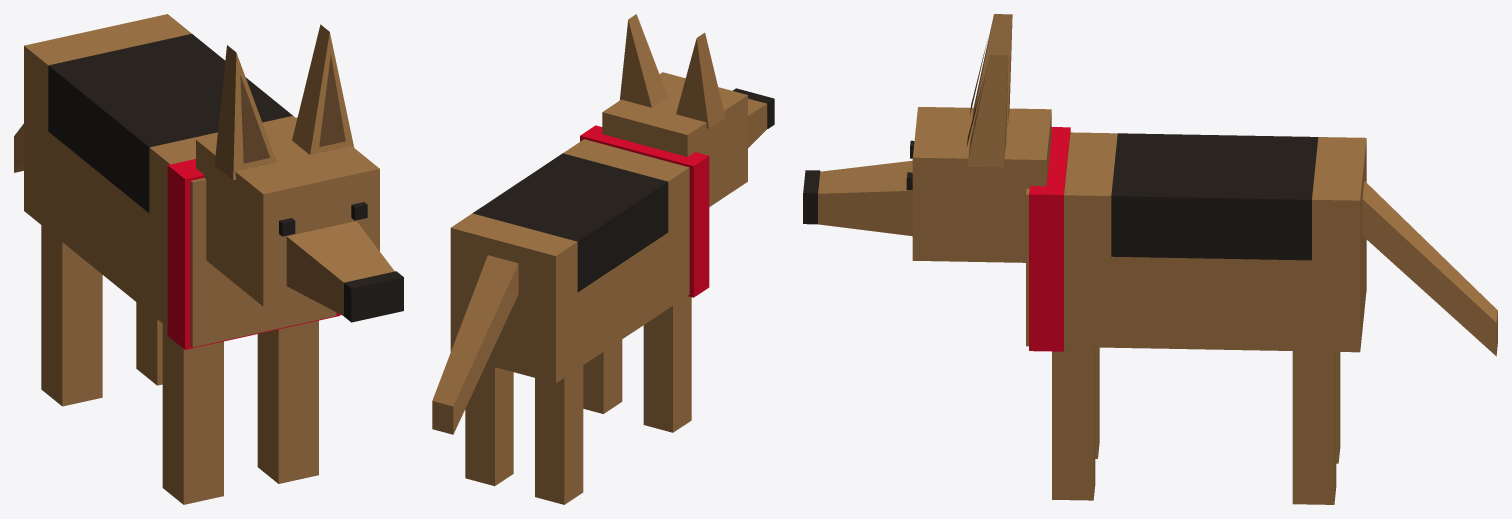
Rendered from german_shepherd.glb.
3 views of the same model, side by side, from view 1: azimuth 30°, elevation 25°; view 2: azimuth 150°, elevation 25°; view 3: azimuth 270°, elevation 25° (orthographic). The views are drawn at different scales.
Visible parts, largest first — view 1: German_Shepherd; view 2: German_Shepherd; view 3: German_Shepherd.
Part boxes in pixels (x1,y1,x2,y2): German_Shepherd: (14, 14, 403, 504); German_Shepherd: (432, 14, 774, 504); German_Shepherd: (803, 14, 1497, 504).
Bounding box in the file's own units: 0.4538 × 1.29 × 1.87.
